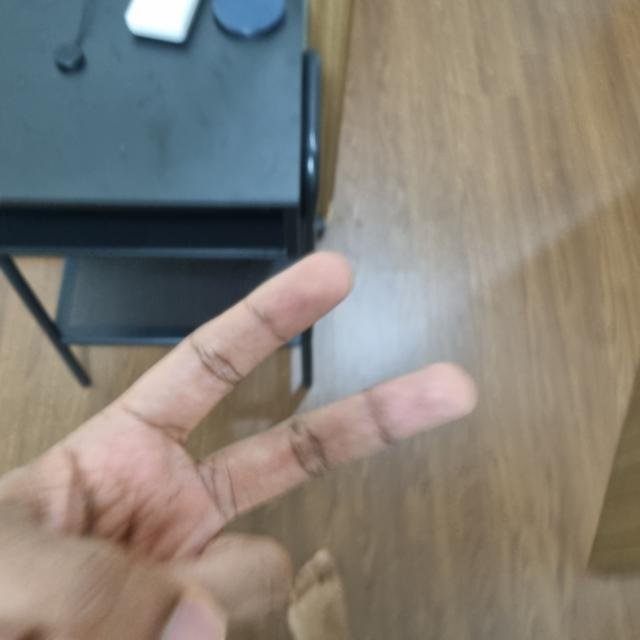Scissors: (1, 259, 468, 639)
